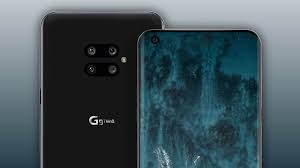lg: (35, 7, 161, 168), (138, 28, 263, 167)
